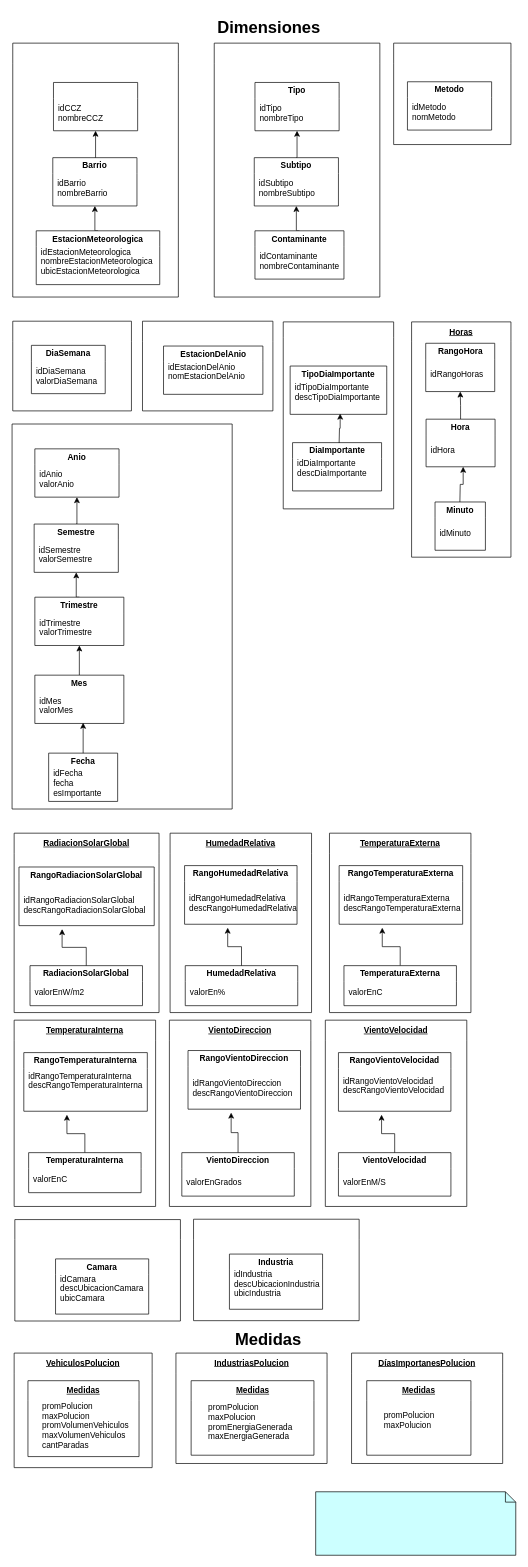
The diagram is 528 pixels wide and 1567 high, and some of its shapes have lost their labels. The box of each missing label's shape, as (x1, y1, x2, y2) in pixels:
Camaras: (14, 1219, 180, 1321)
CentroComunal: (53, 82, 138, 131)
Contaminantes: (214, 42, 380, 297)
DiasImportante: (283, 321, 394, 509)
DiasSemana: (12, 321, 131, 411)
EstacionesDelAnio: (142, 321, 273, 411)
EstacionesMeteorologicas: (12, 42, 178, 297)
Fechas: (11, 423, 232, 809)
Industrias: (193, 1219, 359, 1321)
Metodos: (393, 42, 511, 145)
Notas: -Ver si la jerarquía Barrios - CCZ es 1 a 1: (315, 1491, 516, 1555)
